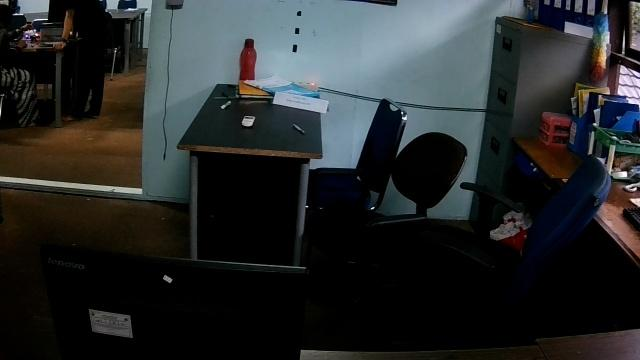Filing Cabinet: (465, 16, 528, 221)
Kursi: (305, 97, 406, 212)
Meja: (176, 78, 325, 262)
